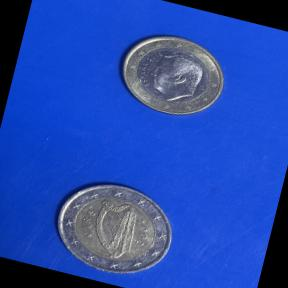coin: (35, 165, 185, 288), (103, 20, 235, 132)
